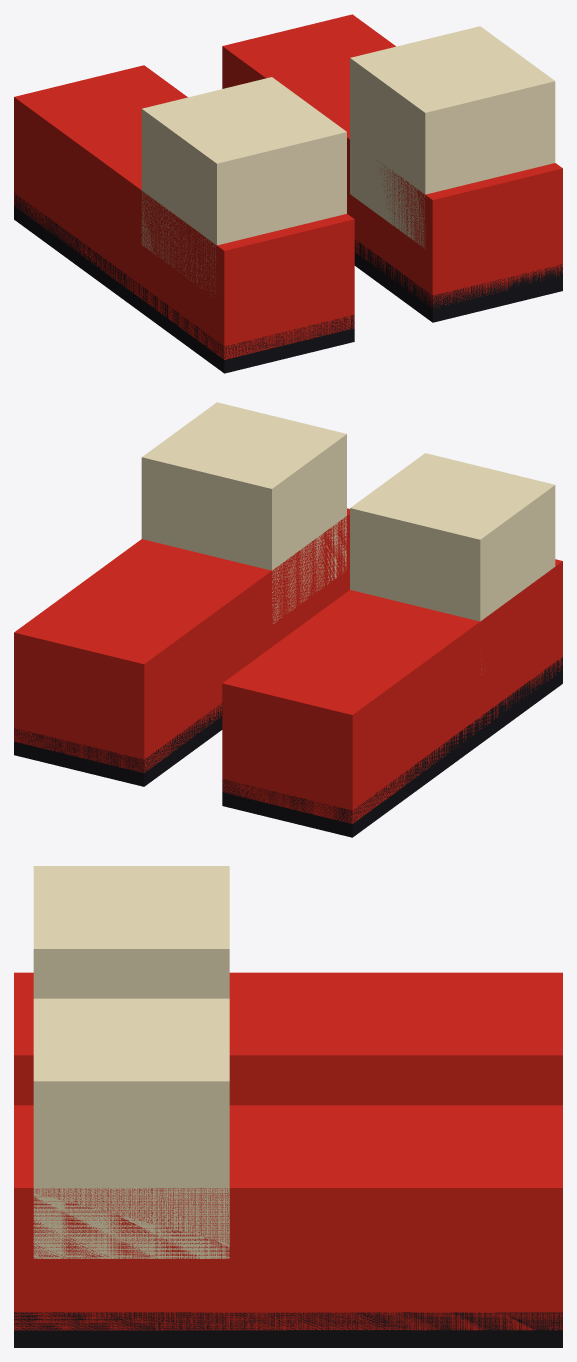
The model's file is bowling_shoes.glb.
3 renders of one model, top to bottom at view 1: azimuth 30°, elevation 25°; view 2: azimuth 150°, elevation 25°; view 3: azimuth 270°, elevation 25°, orthographic. The views are drawn at different scales.
Parts seen in each view (by area): view 1: bowling_shoes; view 2: bowling_shoes; view 3: bowling_shoes.
Boxes of the visible parts, bbox=[...] form: bowling_shoes: bbox=[14, 14, 562, 373]; bowling_shoes: bbox=[14, 402, 562, 837]; bowling_shoes: bbox=[14, 866, 562, 1347].
Bounding box in the file's own units: 0.26 × 0.15 × 0.28.
